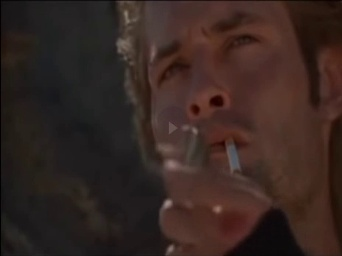smoke: (226, 135, 241, 178)
